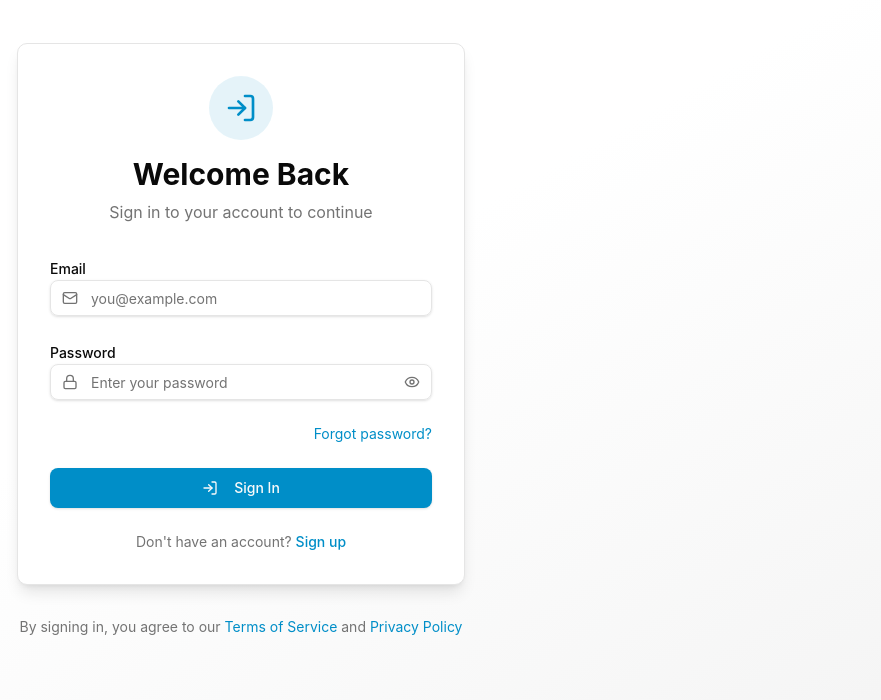
Scenario: Login Page › should display validation errors for empty fields
This screenshot has width=881, height=700.
Click the button "Sign In" at (241, 488), box [50,468,432,508]
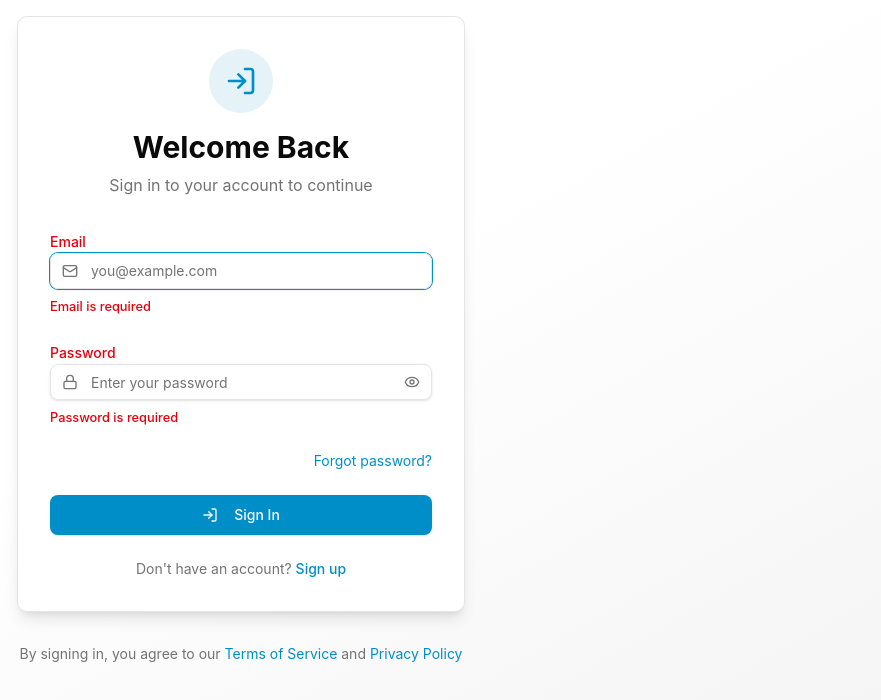
Now the text "Email is required" is shown, box [50,299,151,314]
Now the text "Password is required" is shown, box [50,410,178,425]
